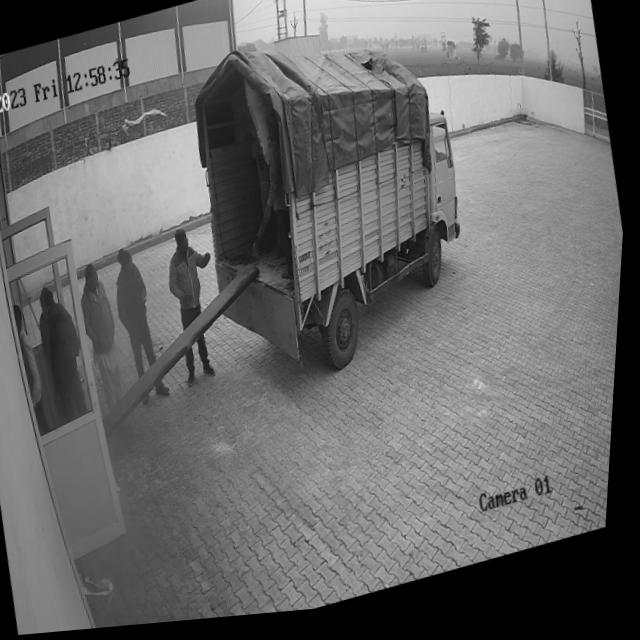sack: (238, 74, 285, 176)
